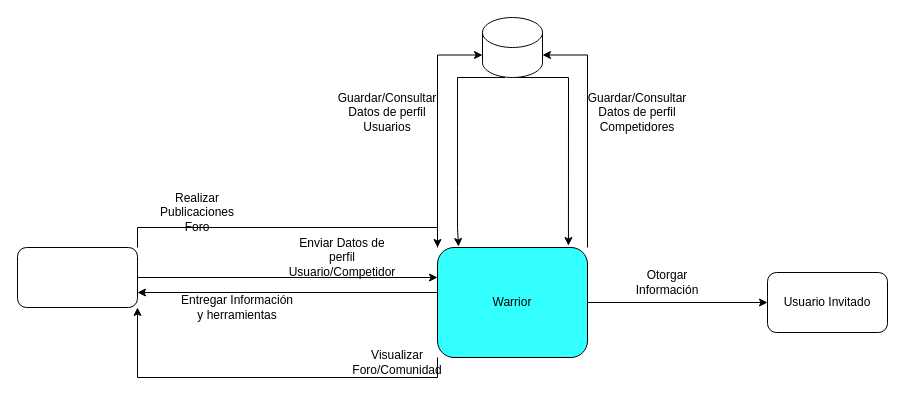
The diagram is 905 pixels wide and 403 high, and some of its shapes have lost their labels. Each missing label, with the centre of its shape:
"Base de Datos" belongs at point 512,47.
"Usuario Registrado" belongs at point 77,277.
